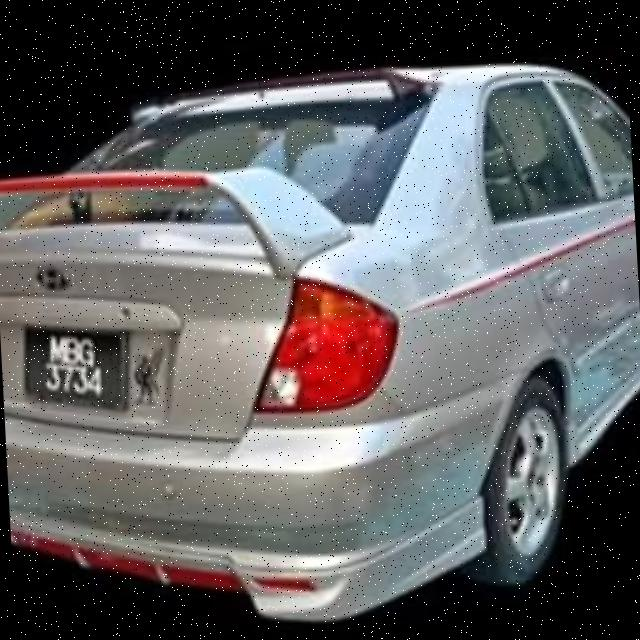License_Plate: (21, 319, 131, 415)
car: (1, 54, 640, 640)
